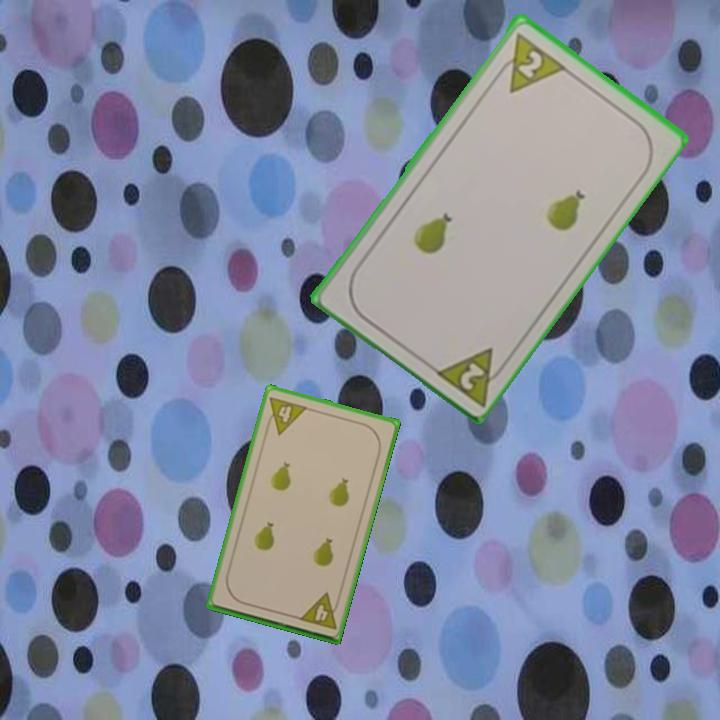2p: (429, 342, 510, 408), (490, 29, 568, 96)
4p: (261, 393, 310, 437), (295, 589, 343, 632)
